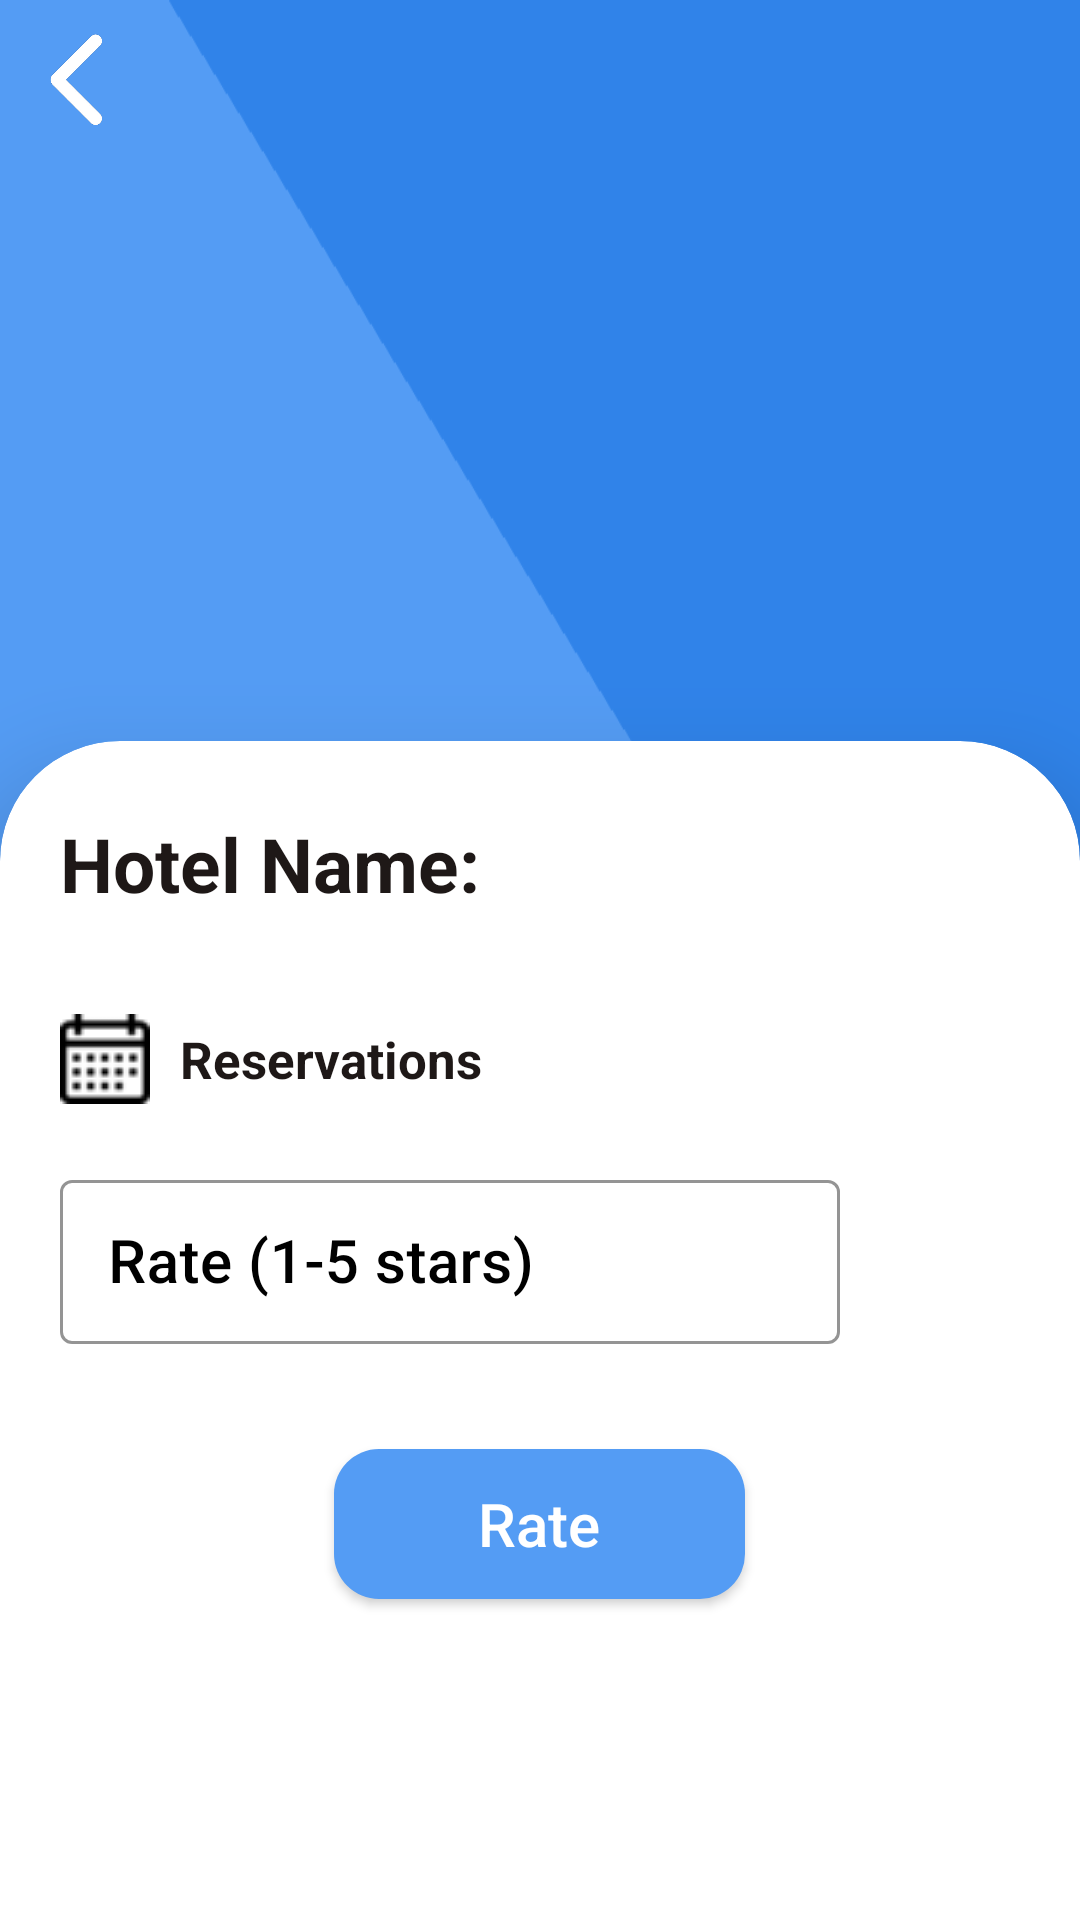

Icons on this 1080px x 1920px Android screen, each with its box as (left=x1, top=y1, right=x2, bottom=y2):
adddates: (left=60, top=1014, right=150, bottom=1104)
back: (left=51, top=34, right=102, bottom=125)
